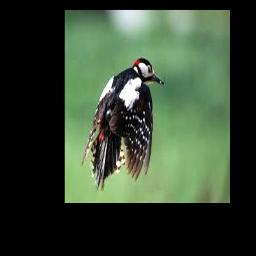Woodpecker: (82, 57, 165, 193)
